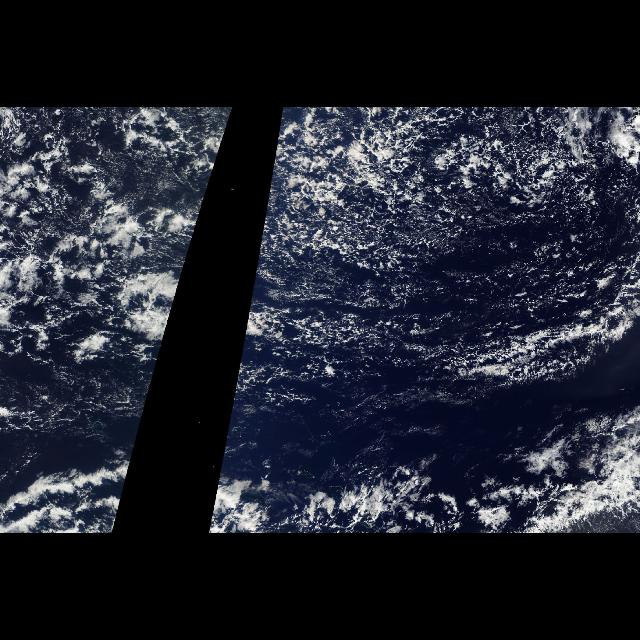Gravel: (232, 109, 640, 532)
